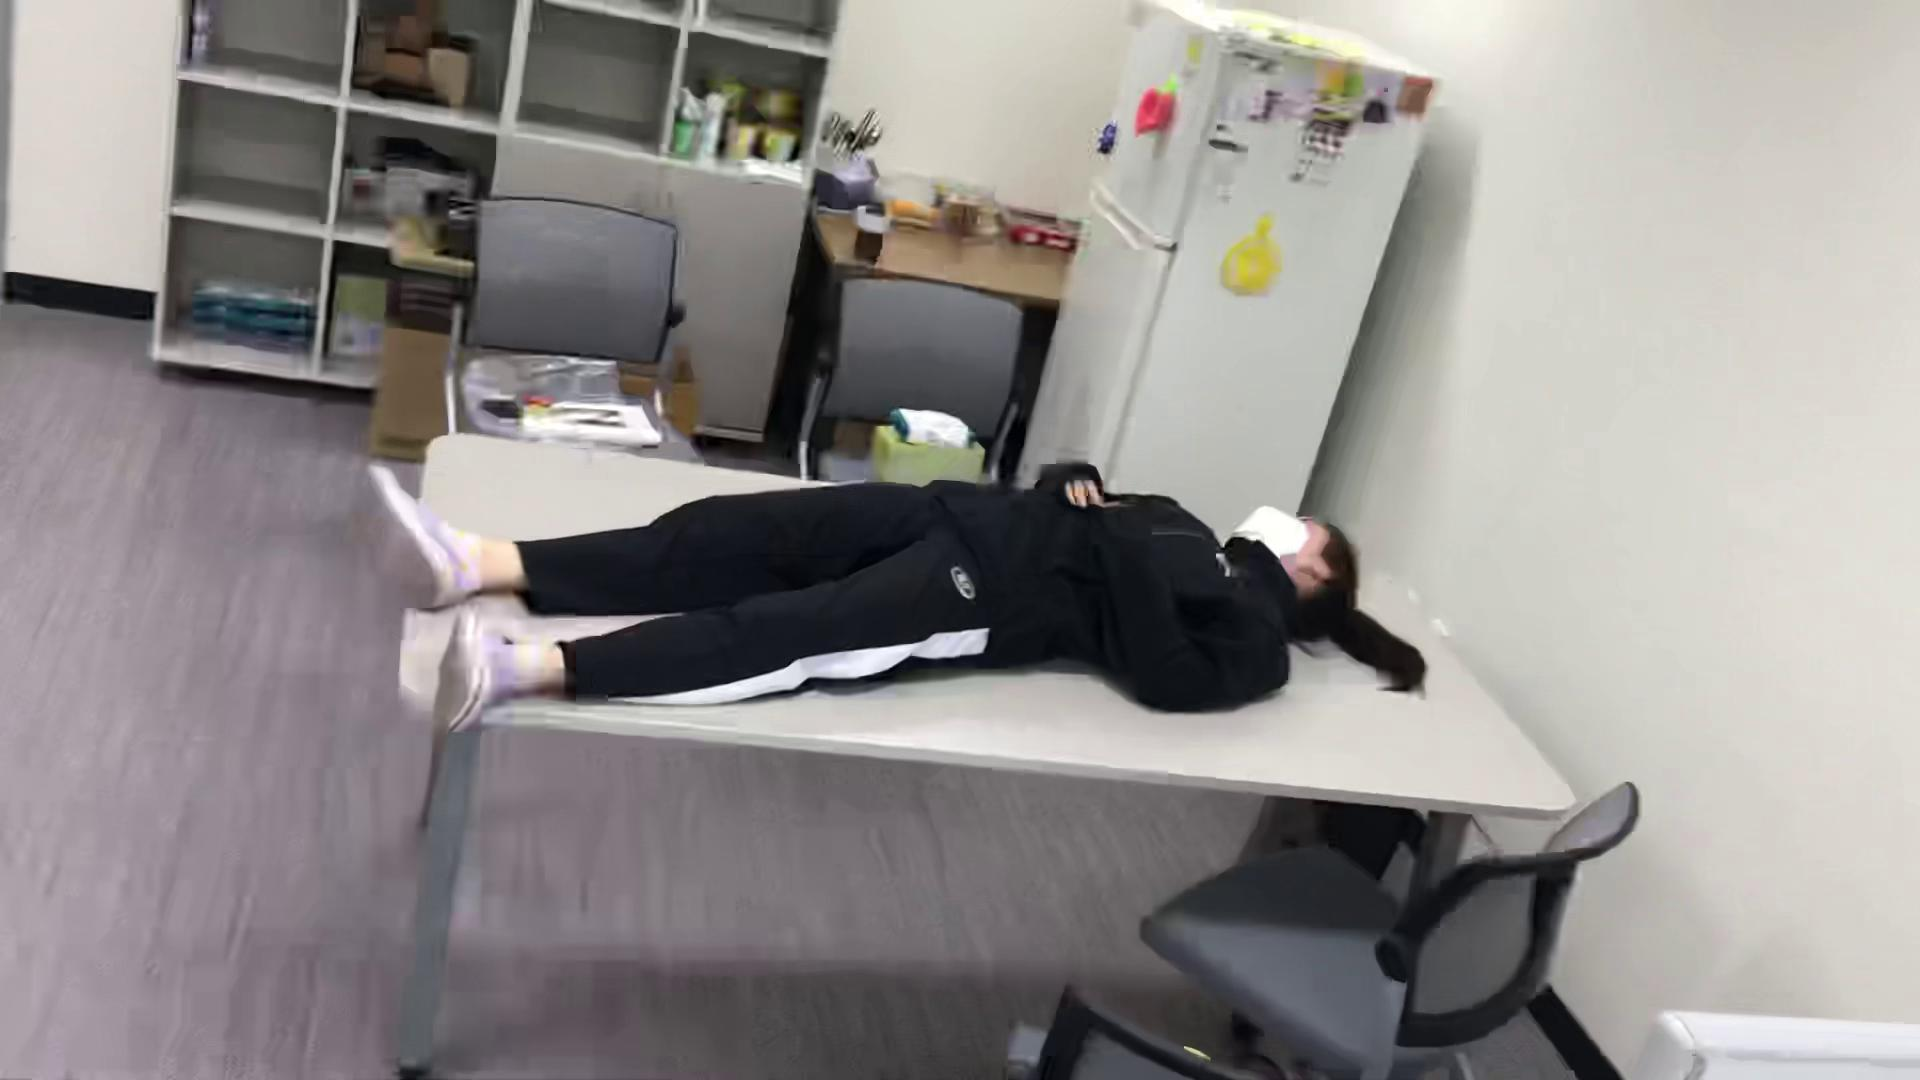sleep: (332, 442, 1374, 753)
